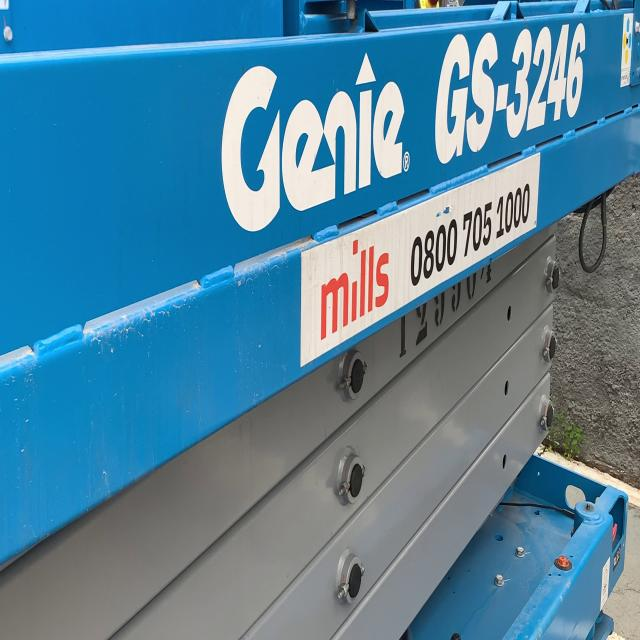Adesivo Longo: (299, 149, 541, 376)
